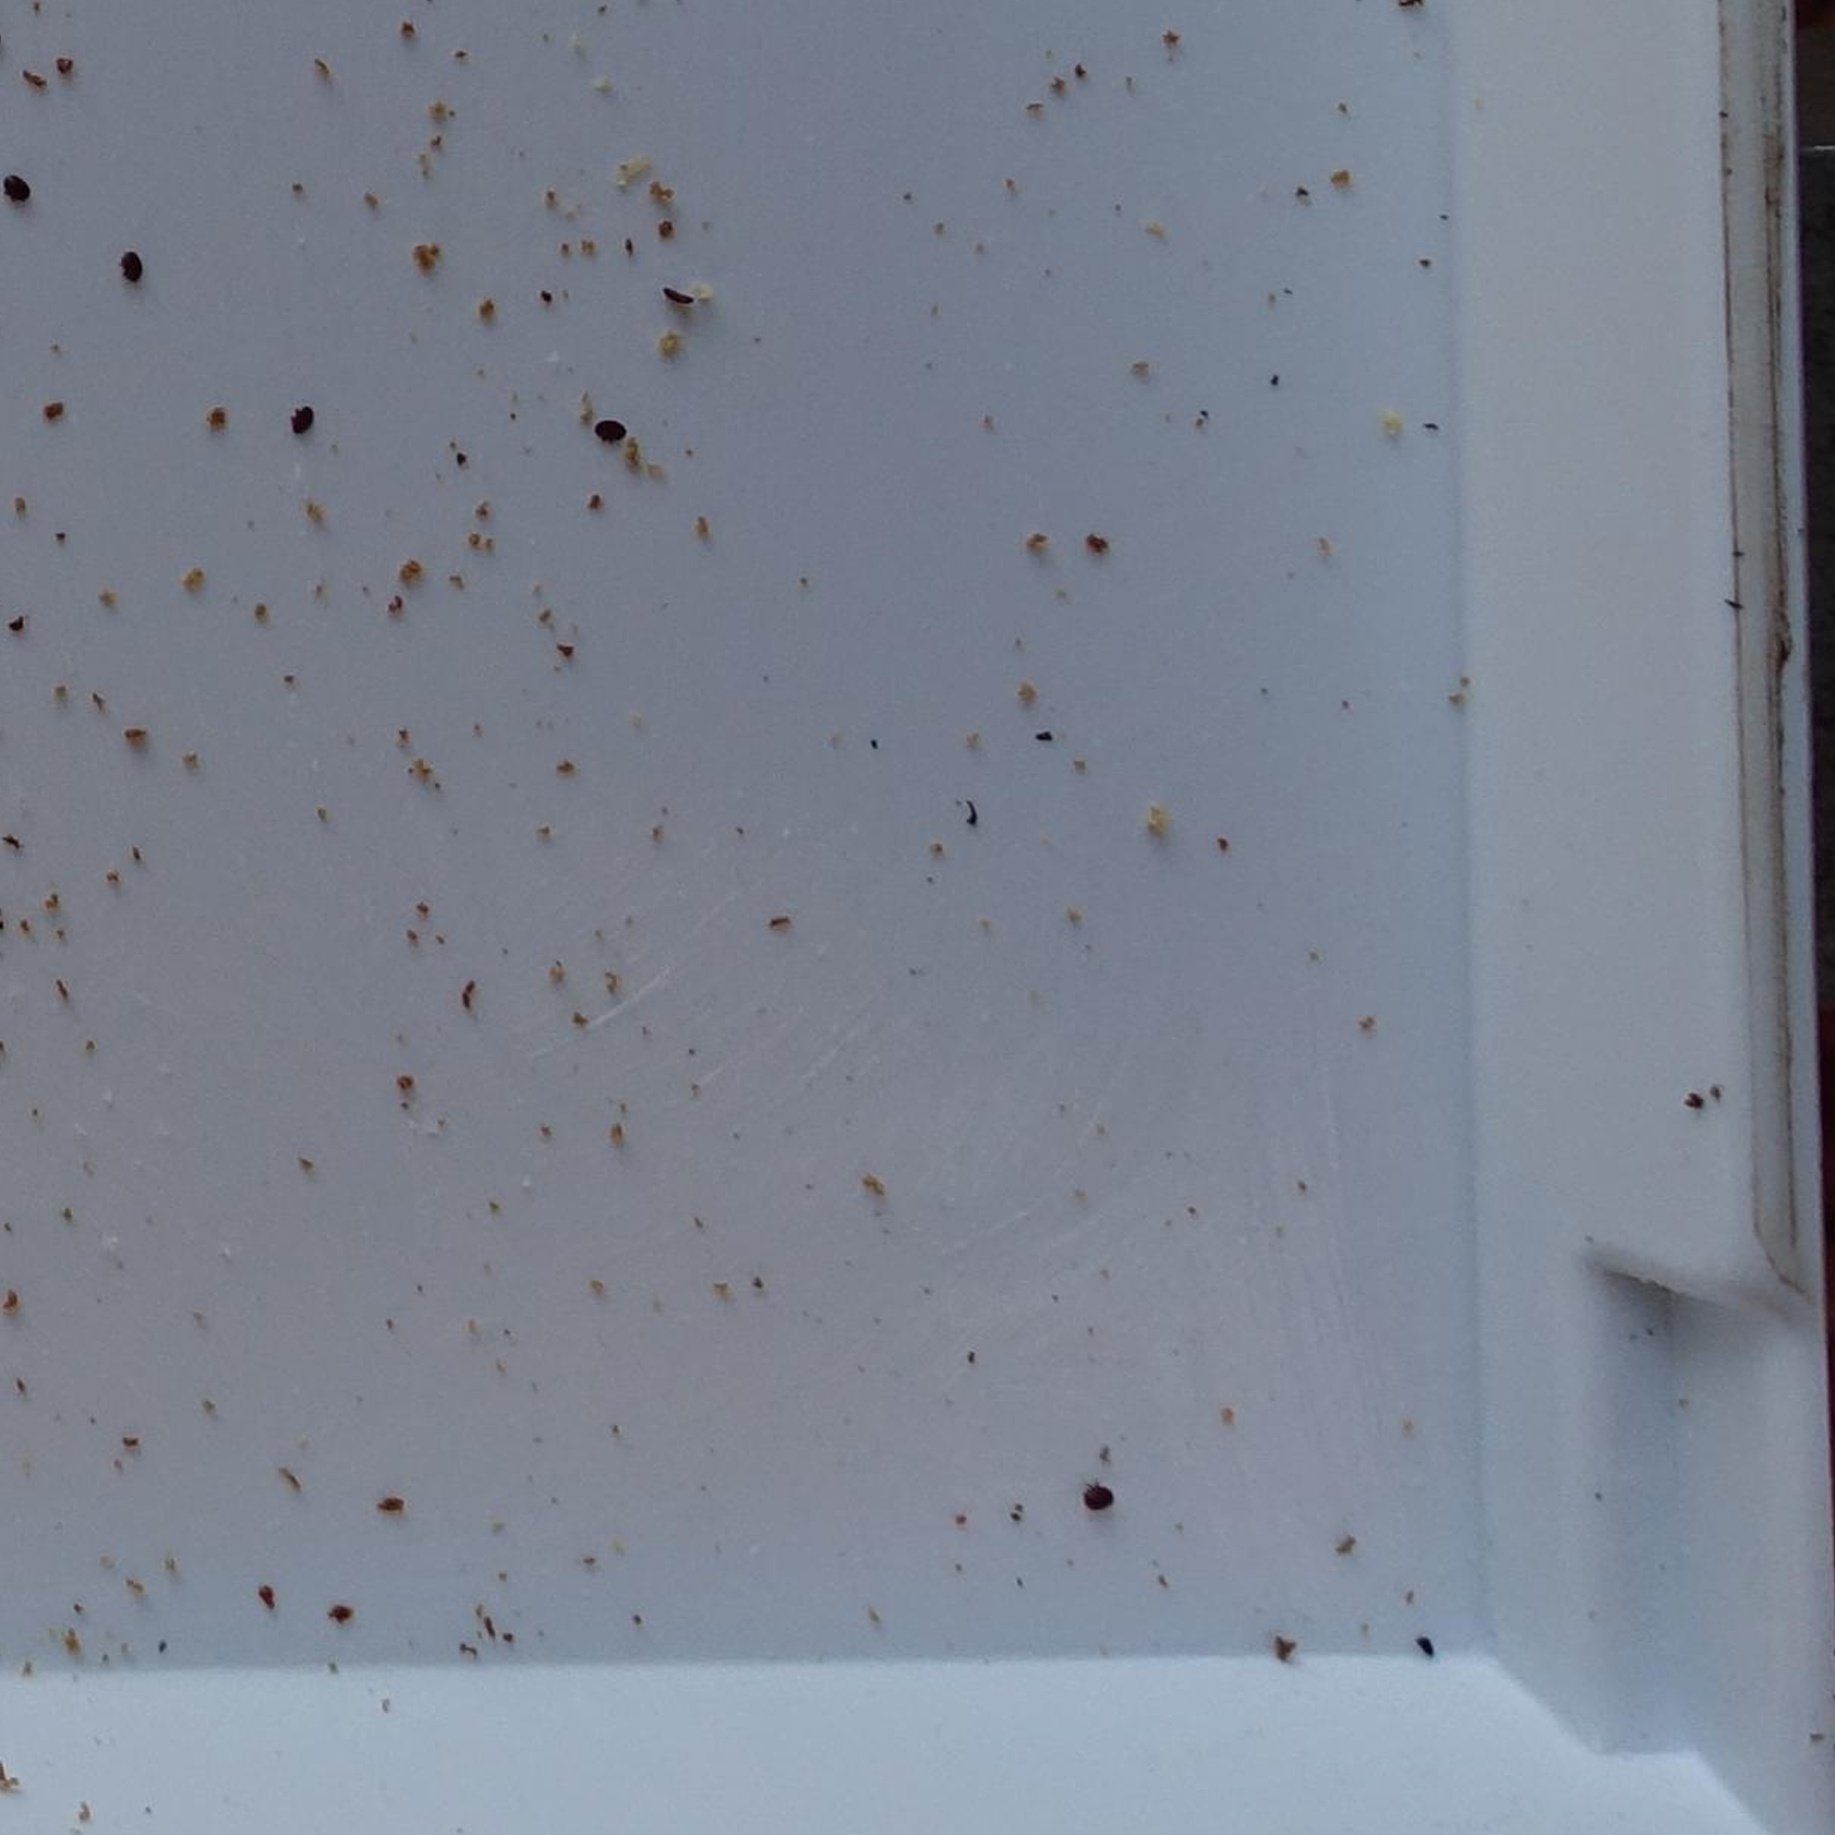Varroa: (597, 408, 625, 439), (109, 249, 138, 277), (292, 402, 321, 429), (1082, 1480, 1107, 1506), (7, 171, 29, 195)
